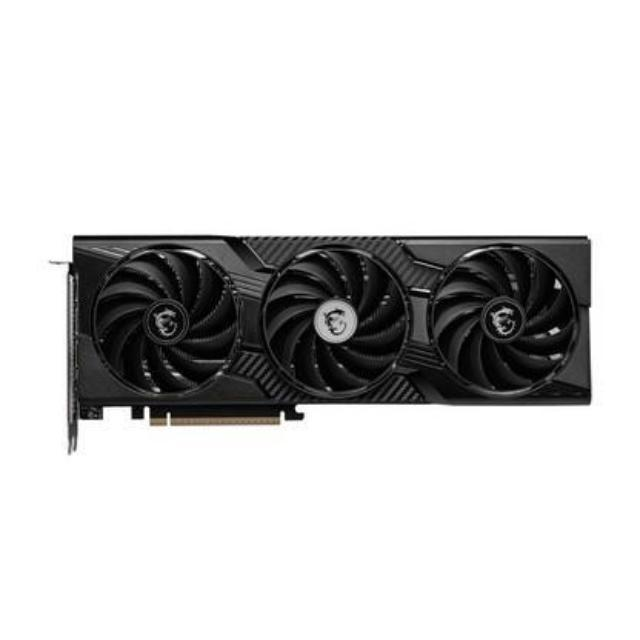GPU: (61, 230, 594, 430)
